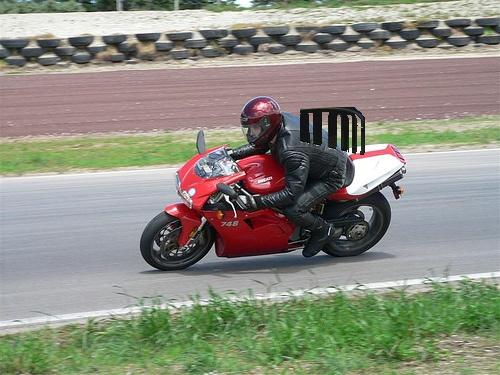tampered: (301, 108, 365, 155)
